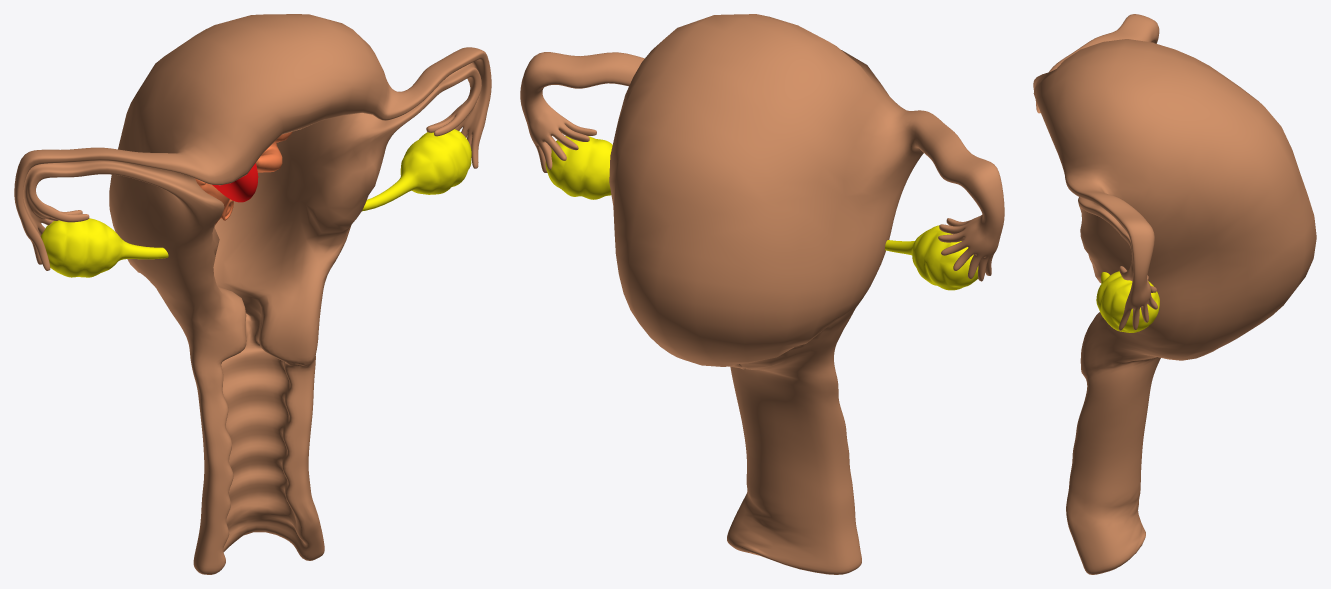
The model's file is animated_baby_uterus.fbx.
3 views of the same model, side by side, from view 1: azimuth 30°, elevation 25°; view 2: azimuth 150°, elevation 25°; view 3: azimuth 270°, elevation 25° (orthographic). The views are drawn at different scales.
Visible parts, largest first — view 1: Uterus, overies, Baby_original, Placenta; view 2: Uterus, overies; view 3: Uterus, overies.
Part boxes in pixels (<box>): Uterus: <box>14,14,491,574</box>; overies: <box>40,129,471,277</box>; Baby_original: <box>195,131,292,224</box>; Placenta: <box>212,163,258,202</box>; Uterus: <box>520,14,1004,574</box>; overies: <box>545,136,978,290</box>; Uterus: <box>1033,14,1316,574</box>; overies: <box>1096,271,1159,332</box>.
Size of the model in its own units: 814 by 862 by 435.
